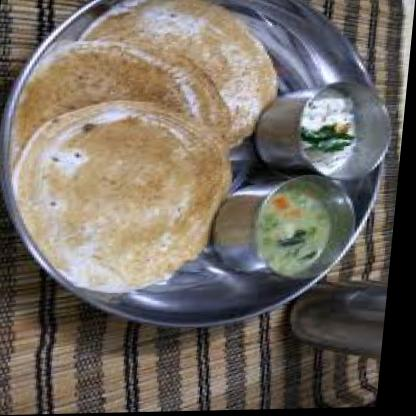dosa: (7, 100, 241, 296), (72, 0, 286, 151), (12, 38, 241, 176)
